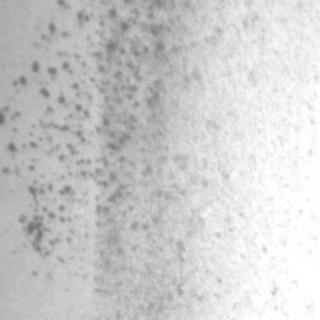pitted_surface: (0, 0, 230, 304)
